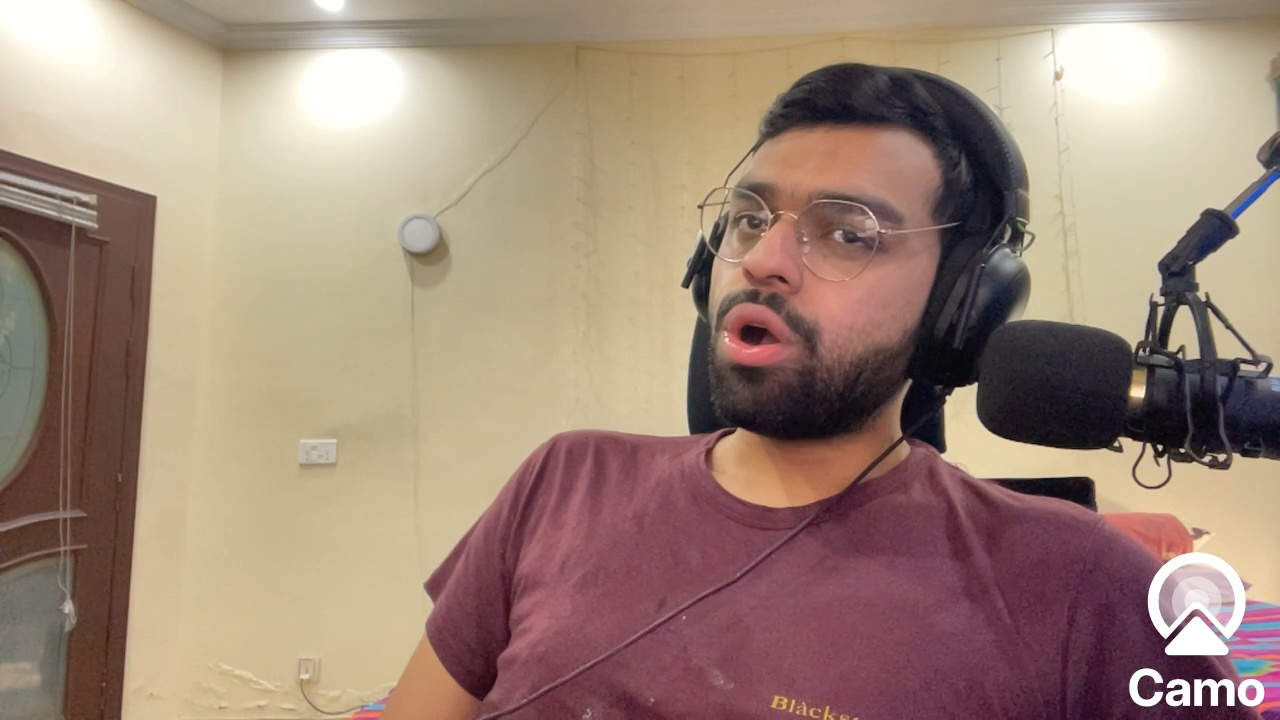surprised: (657, 84, 939, 460)
